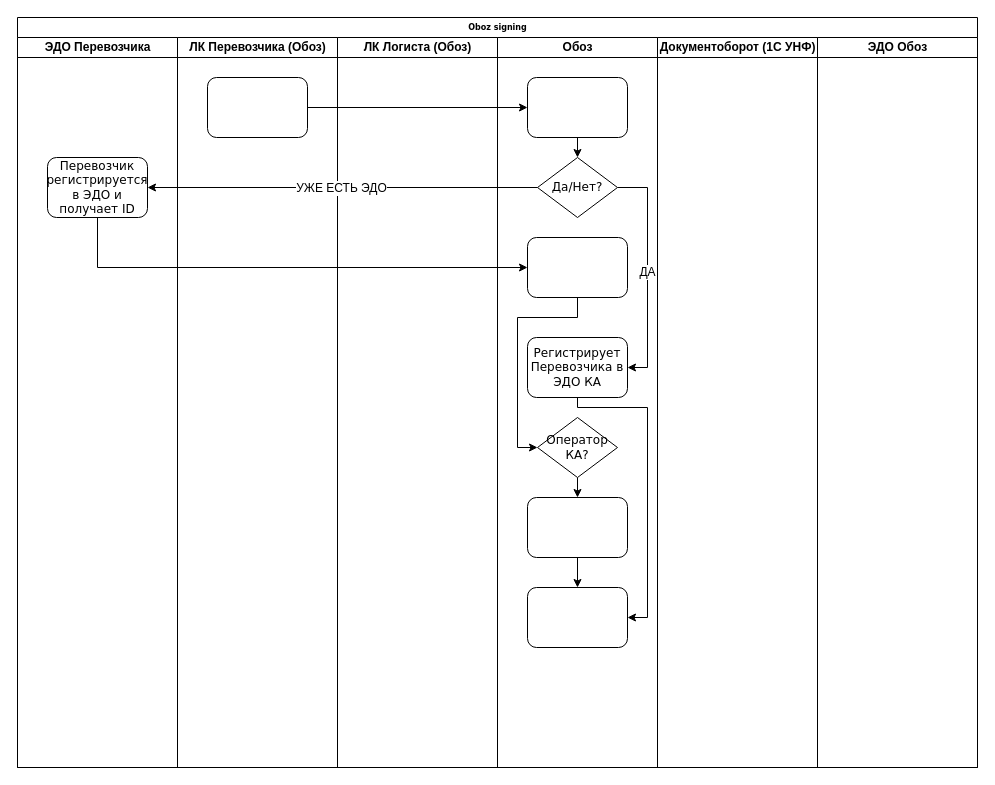
The diagram is 995 pixels wide and 785 high, and some of its shapes have lost their labels. Here are the shapes that lost their labels. From the top down, the centre of each, then its label:
point 257,107: Перевозчик регистрируется в Обоз
point 577,107: Хотите использовать ЭДО "Обоз" ?
point 577,267: Запрашивает ID по ИНН/КПП через API оператора
point 577,527: Запрос на настройку роуминга в КА по API
point 577,617: Сохраняет ID в профиле Контрагента
